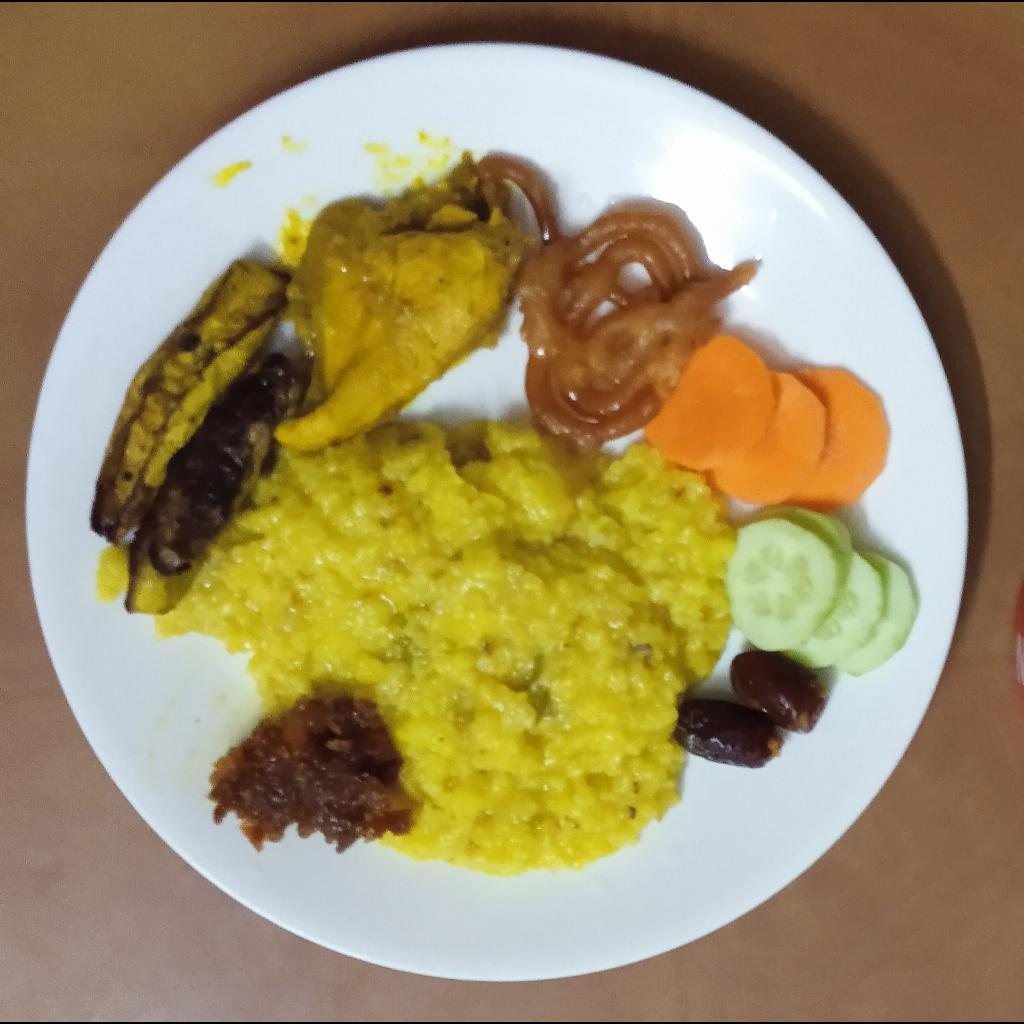achar: (209, 699, 414, 852)
carrot: (644, 334, 891, 510)
chicken: (276, 158, 534, 453)
cucumber: (725, 507, 919, 677)
dates: (676, 649, 828, 769)
jilapi: (477, 153, 761, 454)
khichuri: (155, 417, 734, 875)
potato: (92, 256, 302, 615)
